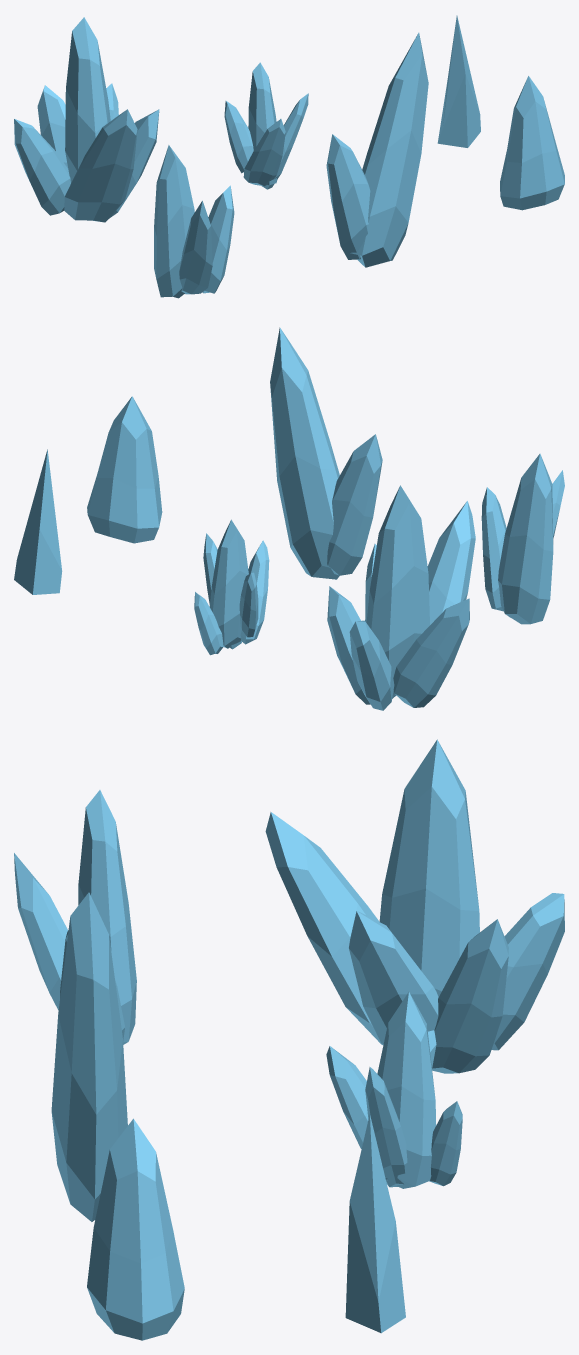
File: IceLance.fbx
3 renders of one model, top to bottom at view 1: azimuth 30°, elevation 25°; view 2: azimuth 150°, elevation 25°; view 3: azimuth 270°, elevation 25°, orthographic. The views are drawn at different scales.
Visible parts, largest first — view 1: iceLance.002, iceLance.004, iceLance.005, iceLance.006, iceLance.001, iceLance.003; view 2: iceLance.002, iceLance.004, iceLance.005, iceLance.006, iceLance.001, iceLance.003; view 3: iceLance.002, iceLance.004, iceLance.006, iceLance.001, iceLance.005, iceLance.003.
Part boxes in pixels (left/top/right/bottom): iceLance.002: left=14, top=17, right=159, bottom=222; iceLance.004: left=326, top=32, right=428, bottom=267; iceLance.005: left=154, top=145, right=234, bottom=298; iceLance.006: left=500, top=76, right=564, bottom=210; iceLance.001: left=224, top=62, right=308, bottom=189; iceLance.003: left=437, top=15, right=480, bottom=147; iceLance.002: left=327, top=485, right=475, bottom=710; iceLance.004: left=270, top=327, right=382, bottom=579; iceLance.005: left=481, top=453, right=564, bottom=624; iceLance.006: left=87, top=396, right=162, bottom=543; iceLance.001: left=194, top=519, right=269, bottom=655; iceLance.003: left=14, top=449, right=62, bottom=594; iceLance.002: left=265, top=739, right=564, bottom=1073; iceLance.004: left=51, top=892, right=127, bottom=1221; iceLance.006: left=87, top=1118, right=184, bottom=1340; iceLance.001: left=326, top=992, right=462, bottom=1188; iceLance.005: left=14, top=790, right=136, bottom=1044; iceLance.003: left=345, top=1114, right=405, bottom=1333.
Size of the model in its own units: 4541 by 2132 by 3043.
